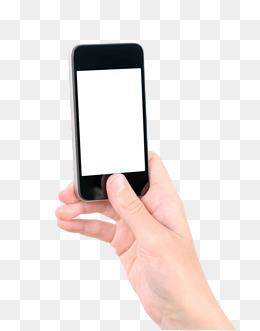phone: (50, 39, 201, 316)
